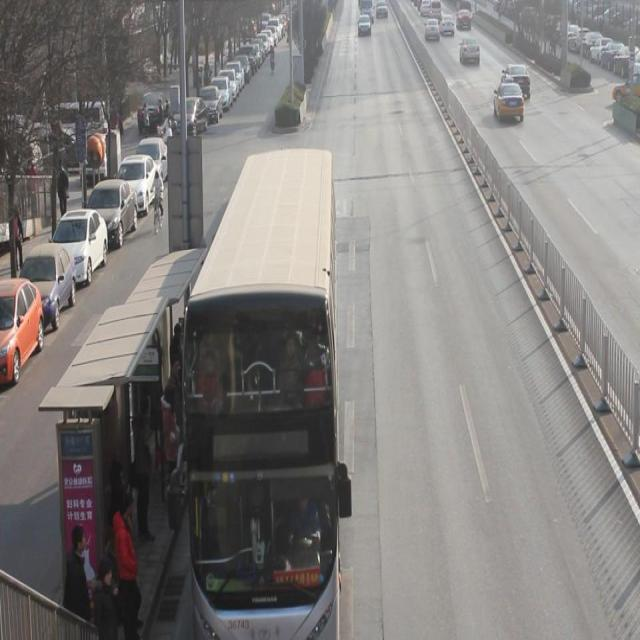car: (494, 77, 526, 127), (501, 65, 532, 104), (612, 76, 640, 108), (459, 38, 482, 70), (456, 9, 473, 34), (441, 15, 456, 40), (425, 20, 441, 43), (358, 14, 372, 40), (376, 1, 389, 22), (420, 1, 432, 22)
truck: (430, 1, 442, 22)
van: (181, 150, 341, 633)
